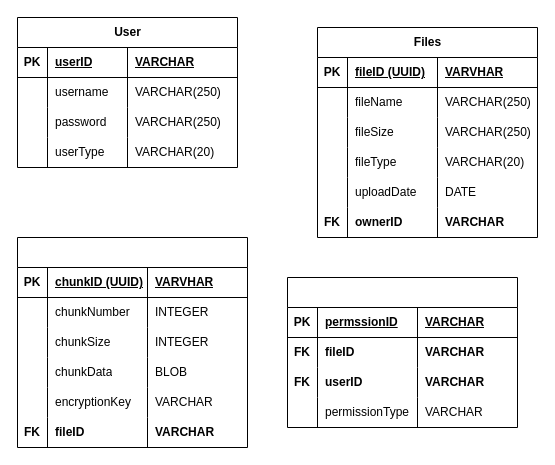
This 555x465 diagram has some shape labels left out. Here are the shapes that lost their labels. From the top down, the box of each, then its label:
(16, 236, 248, 448): FilesChunks
(286, 276, 518, 428): FilePermissions
